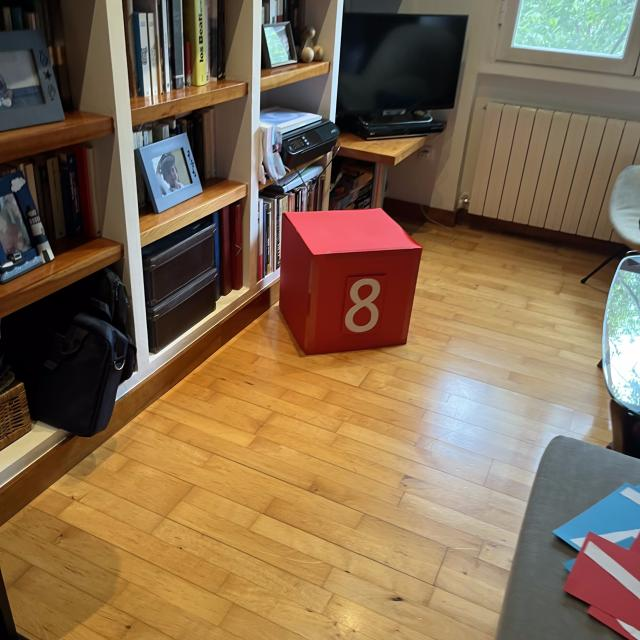box: (276, 205, 424, 356)
